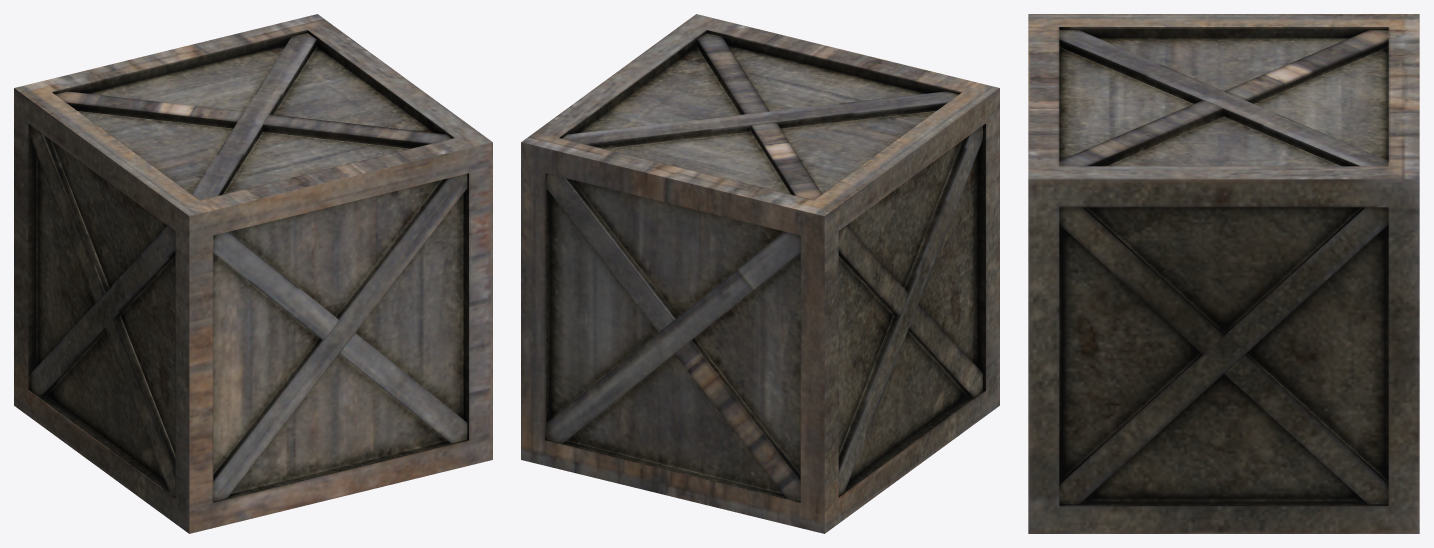
The model's file is WoodenCrate_T02.FBX.
3 renders of one model, left to right at view 1: azimuth 30°, elevation 25°; view 2: azimuth 150°, elevation 25°; view 3: azimuth 270°, elevation 25°, orthographic. The views are drawn at different scales.
Visible parts, largest first — view 1: WoodenCrate_T02; view 2: WoodenCrate_T02; view 3: WoodenCrate_T02.
Part boxes in pixels (bbox=[...]): WoodenCrate_T02: bbox=[14, 14, 492, 533]; WoodenCrate_T02: bbox=[521, 14, 999, 533]; WoodenCrate_T02: bbox=[1028, 14, 1419, 533].
Size of the model in its own units: 75.55 by 75.55 by 75.55.
